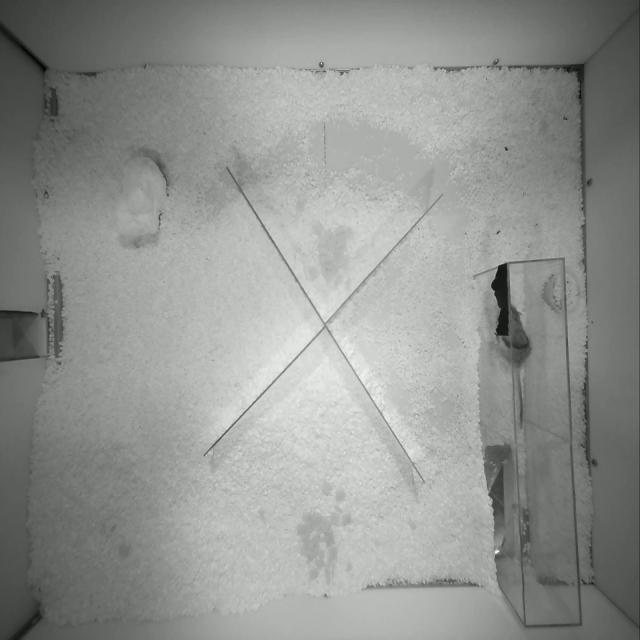adult_front: (501, 306, 530, 429)
